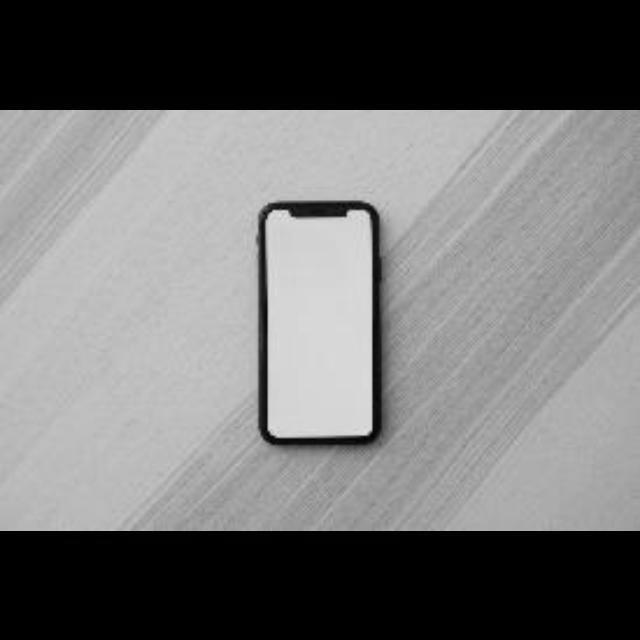fake: (233, 175, 411, 479)
